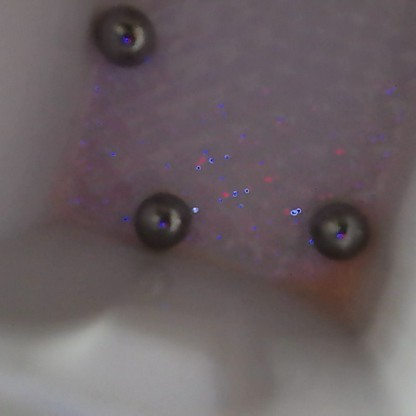ironball: (93, 3, 161, 68), (132, 188, 195, 253), (308, 196, 369, 262)
